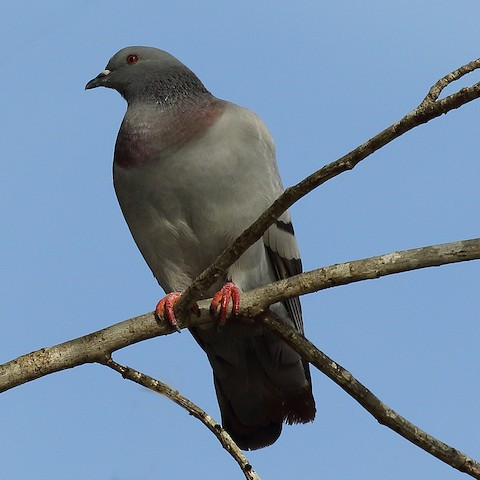pigeon: (81, 42, 325, 457)
